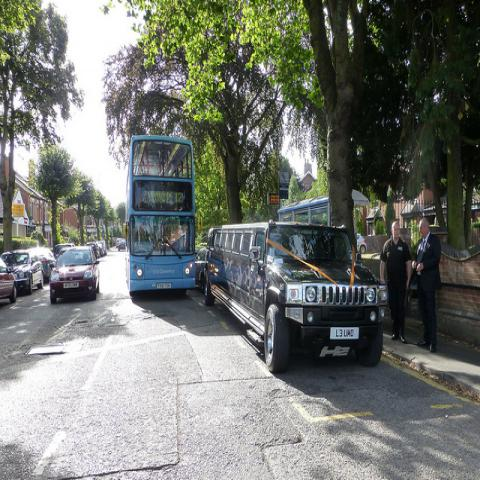bus: (129, 136, 198, 302)
car: (204, 220, 390, 374), (50, 245, 100, 304), (0, 250, 44, 294), (27, 247, 58, 278), (0, 256, 18, 303), (195, 245, 206, 292), (53, 243, 76, 258), (86, 241, 99, 259), (357, 233, 367, 254), (96, 240, 107, 256), (119, 241, 126, 250), (116, 238, 122, 248)
truck: (203, 223, 390, 373)
